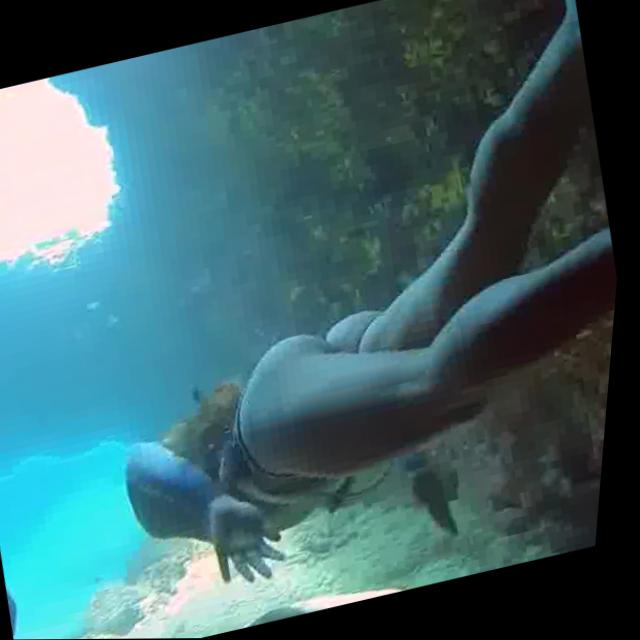human: (13, 0, 640, 625)
